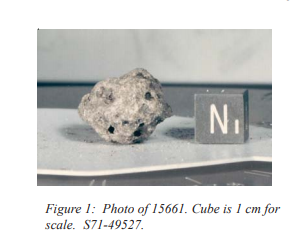Basalt: (77, 69, 169, 143)
